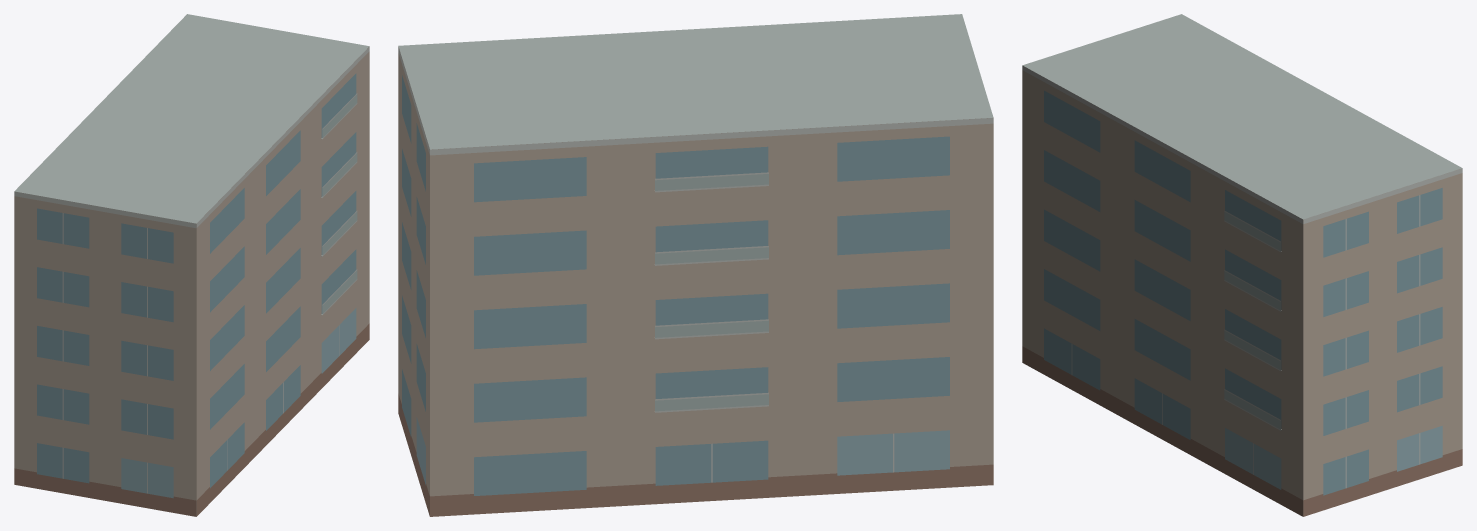
File: survey-upis-33032091.glb
3 views of the same model, side by side, from view 1: azimuth 30°, elevation 25°; view 2: azimuth 150°, elevation 25°; view 3: azimuth 270°, elevation 25° (orthographic). The views are drawn at different scales.
Visible parts, largest first — view 1: survey-upis-33032091.tmp; view 2: survey-upis-33032091.tmp; view 3: survey-upis-33032091.tmp.
Part boxes in pixels (x1,y1,x2,y2): survey-upis-33032091.tmp: (14,14,369,516); survey-upis-33032091.tmp: (398,14,993,516); survey-upis-33032091.tmp: (1022,14,1462,516).
Size of the model in its own units: 22.54 by 15.2 by 20.4.
